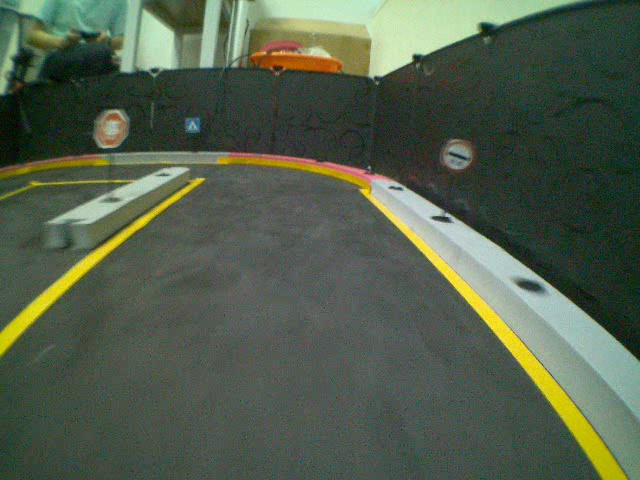Check: (441, 139, 475, 172)
Stop: (90, 108, 129, 148)
crossing: (185, 116, 200, 133)
